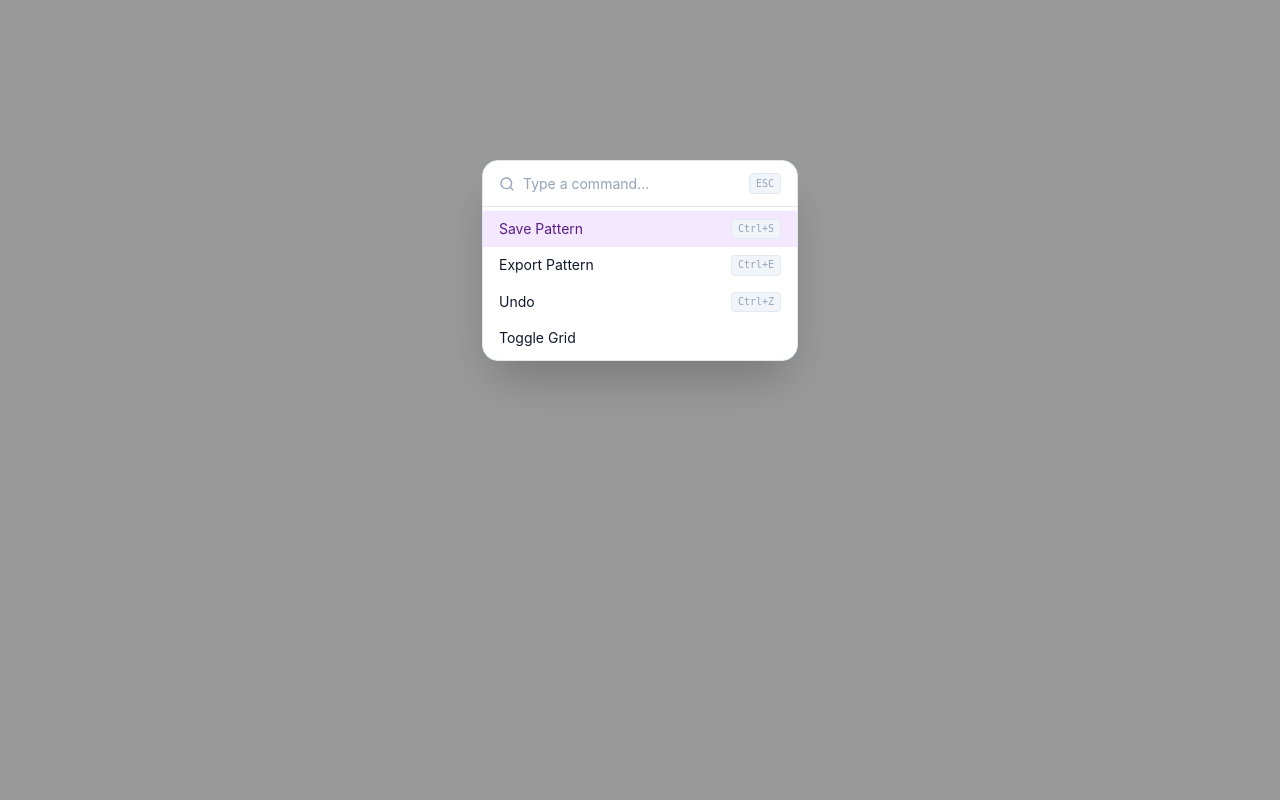
Test: CommandPalette › shows no results message when nothing matches
In the field with placeholder "Type a command...": (632, 184) [523,174,741,194], type "zzzzz"
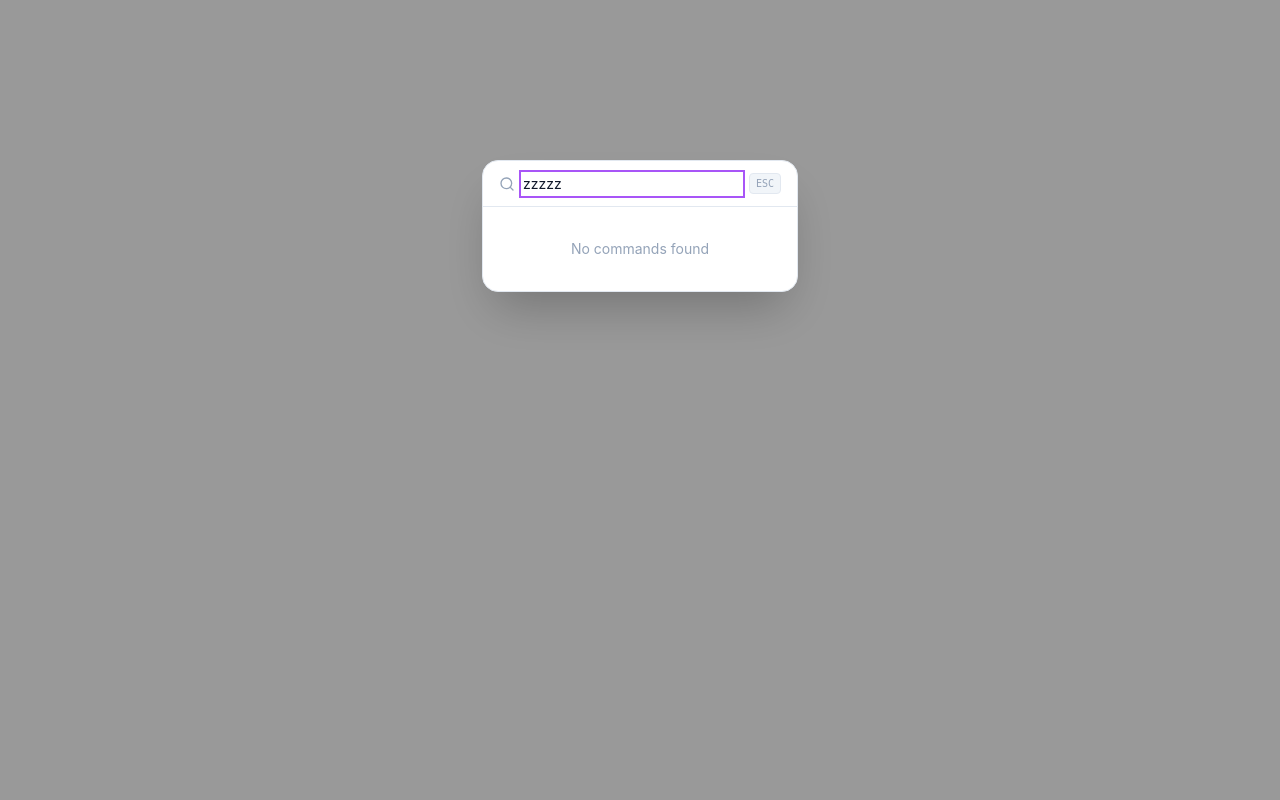
Now the text "No commands found" is shown, box [571,240,709,257]
